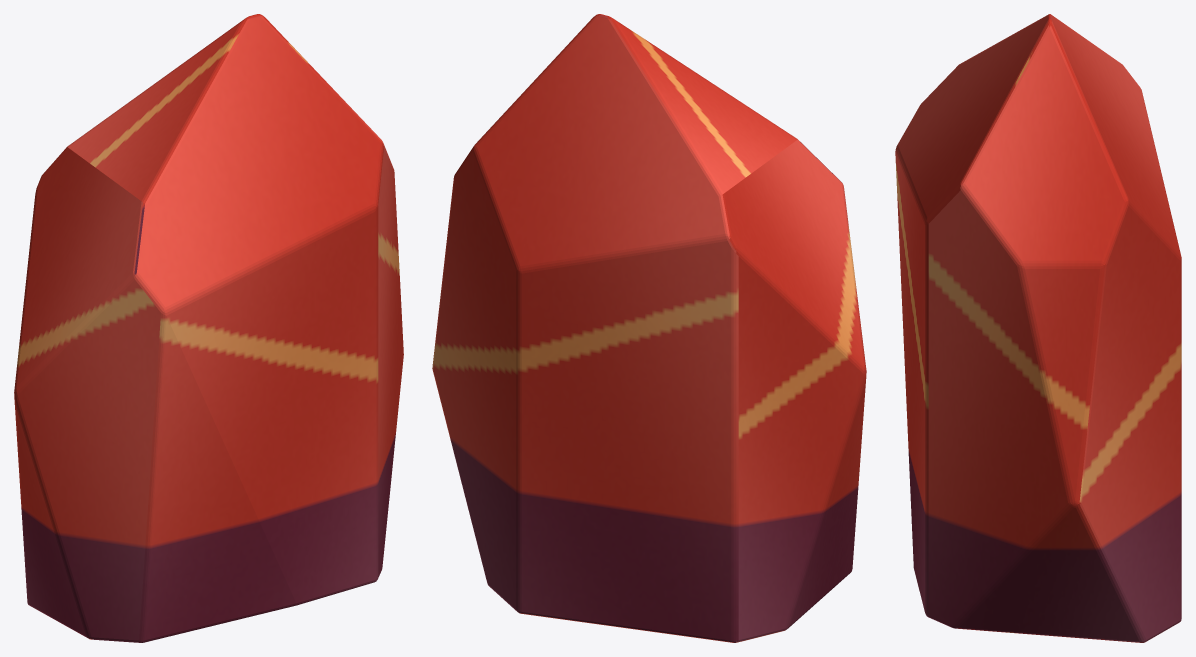
Rendered from cinder_ruby.obj.
3 views of the same model, side by side, from view 1: azimuth 30°, elevation 25°; view 2: azimuth 150°, elevation 25°; view 3: azimuth 270°, elevation 25° (orthographic). The views are drawn at different scales.
Visible parts, largest first — view 1: A_ShadowHull.001_cinder_ruby_ruby; view 2: A_ShadowHull.001_cinder_ruby_ruby; view 3: A_ShadowHull.001_cinder_ruby_ruby.
Part boxes in pixels (x1=…): A_ShadowHull.001_cinder_ruby_ruby: x1=14, y1=14, x2=403, y2=642; A_ShadowHull.001_cinder_ruby_ruby: x1=432, y1=14, x2=866, y2=642; A_ShadowHull.001_cinder_ruby_ruby: x1=895, y1=14, x2=1181, y2=642.
Size of the model in its own units: 1.32 by 1.73 by 0.7576.
